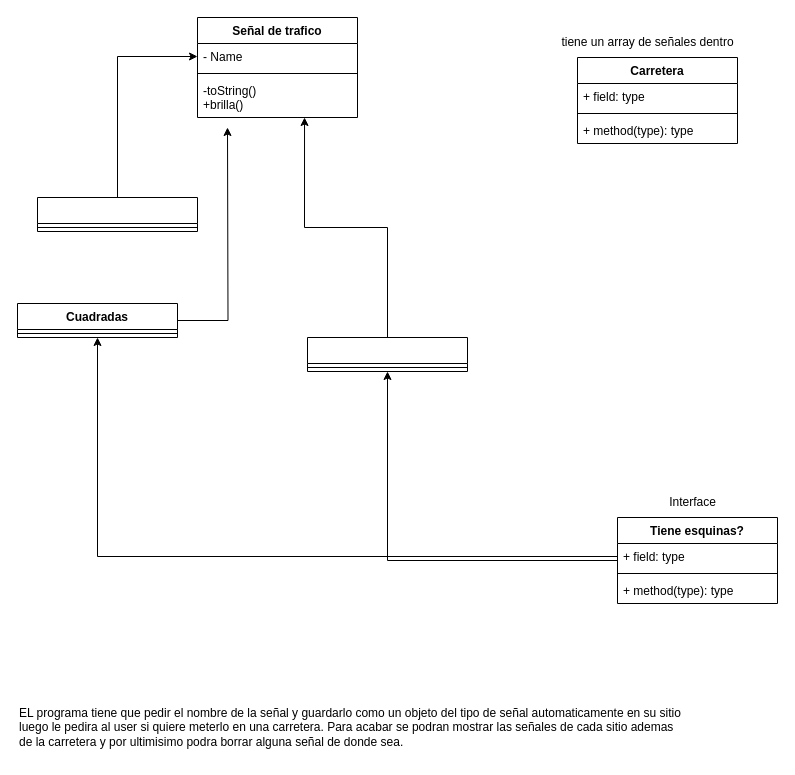
The diagram is 795 pixels wide and 775 high, and some of its shapes have lost their labels. Each missing label, with the centre of its shape:
Redondas: point 117,214
Triangulares: point 387,354
